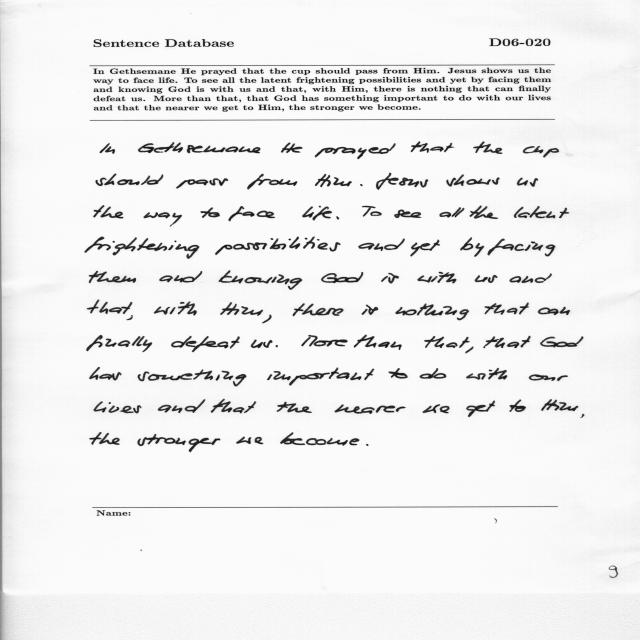word: (85, 236, 199, 259), (215, 237, 341, 255), (267, 368, 374, 386), (138, 370, 246, 387), (219, 270, 302, 290), (138, 434, 221, 452), (138, 143, 260, 154), (315, 143, 396, 159), (395, 304, 469, 321), (488, 239, 556, 257), (87, 335, 153, 352), (280, 432, 359, 446), (171, 336, 240, 352), (376, 173, 428, 190), (96, 174, 163, 186), (247, 174, 297, 190), (354, 335, 402, 350), (334, 404, 406, 414), (228, 206, 275, 221), (447, 174, 500, 187), (293, 303, 344, 316), (514, 206, 569, 218), (158, 399, 205, 413), (88, 300, 133, 314), (211, 399, 256, 413), (154, 302, 197, 316), (220, 302, 263, 316), (143, 212, 182, 227), (484, 302, 529, 315), (176, 178, 228, 189), (358, 239, 405, 251), (89, 271, 136, 283), (484, 336, 531, 348), (94, 402, 141, 414), (424, 336, 470, 348), (301, 335, 348, 346), (160, 271, 203, 283), (410, 240, 440, 257), (466, 368, 507, 380), (540, 337, 584, 348), (315, 174, 352, 187), (411, 142, 454, 153), (466, 401, 495, 417), (321, 272, 363, 283), (460, 238, 484, 257), (541, 399, 579, 411), (302, 206, 332, 221), (523, 146, 559, 158), (509, 273, 552, 283), (418, 272, 457, 283), (89, 368, 122, 381), (276, 402, 312, 413), (473, 141, 503, 154), (90, 432, 120, 445), (94, 206, 123, 219), (470, 206, 498, 219), (420, 368, 447, 379), (440, 207, 465, 218), (529, 374, 568, 381), (538, 307, 570, 315), (422, 405, 450, 414), (394, 210, 422, 218), (509, 399, 526, 412), (200, 207, 220, 218), (237, 437, 264, 445), (281, 143, 302, 153), (389, 368, 408, 379), (362, 206, 382, 216), (517, 178, 538, 187), (381, 273, 399, 283), (475, 275, 497, 283), (251, 340, 273, 348), (362, 305, 379, 315), (100, 143, 115, 154), (262, 315, 272, 324), (465, 347, 474, 354), (127, 315, 133, 320), (580, 414, 585, 418), (336, 216, 339, 220), (360, 184, 363, 186), (275, 345, 278, 347), (366, 444, 368, 446)
